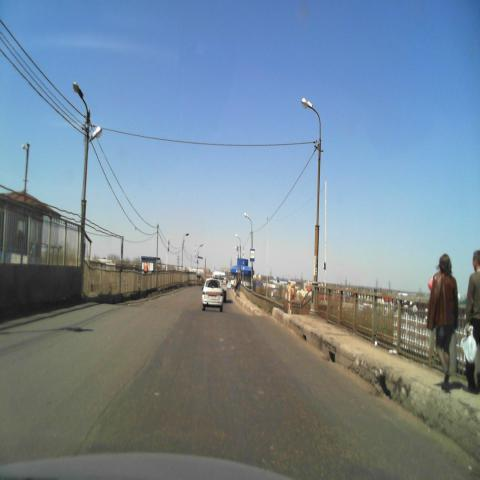7_12: (250, 249, 255, 262)
